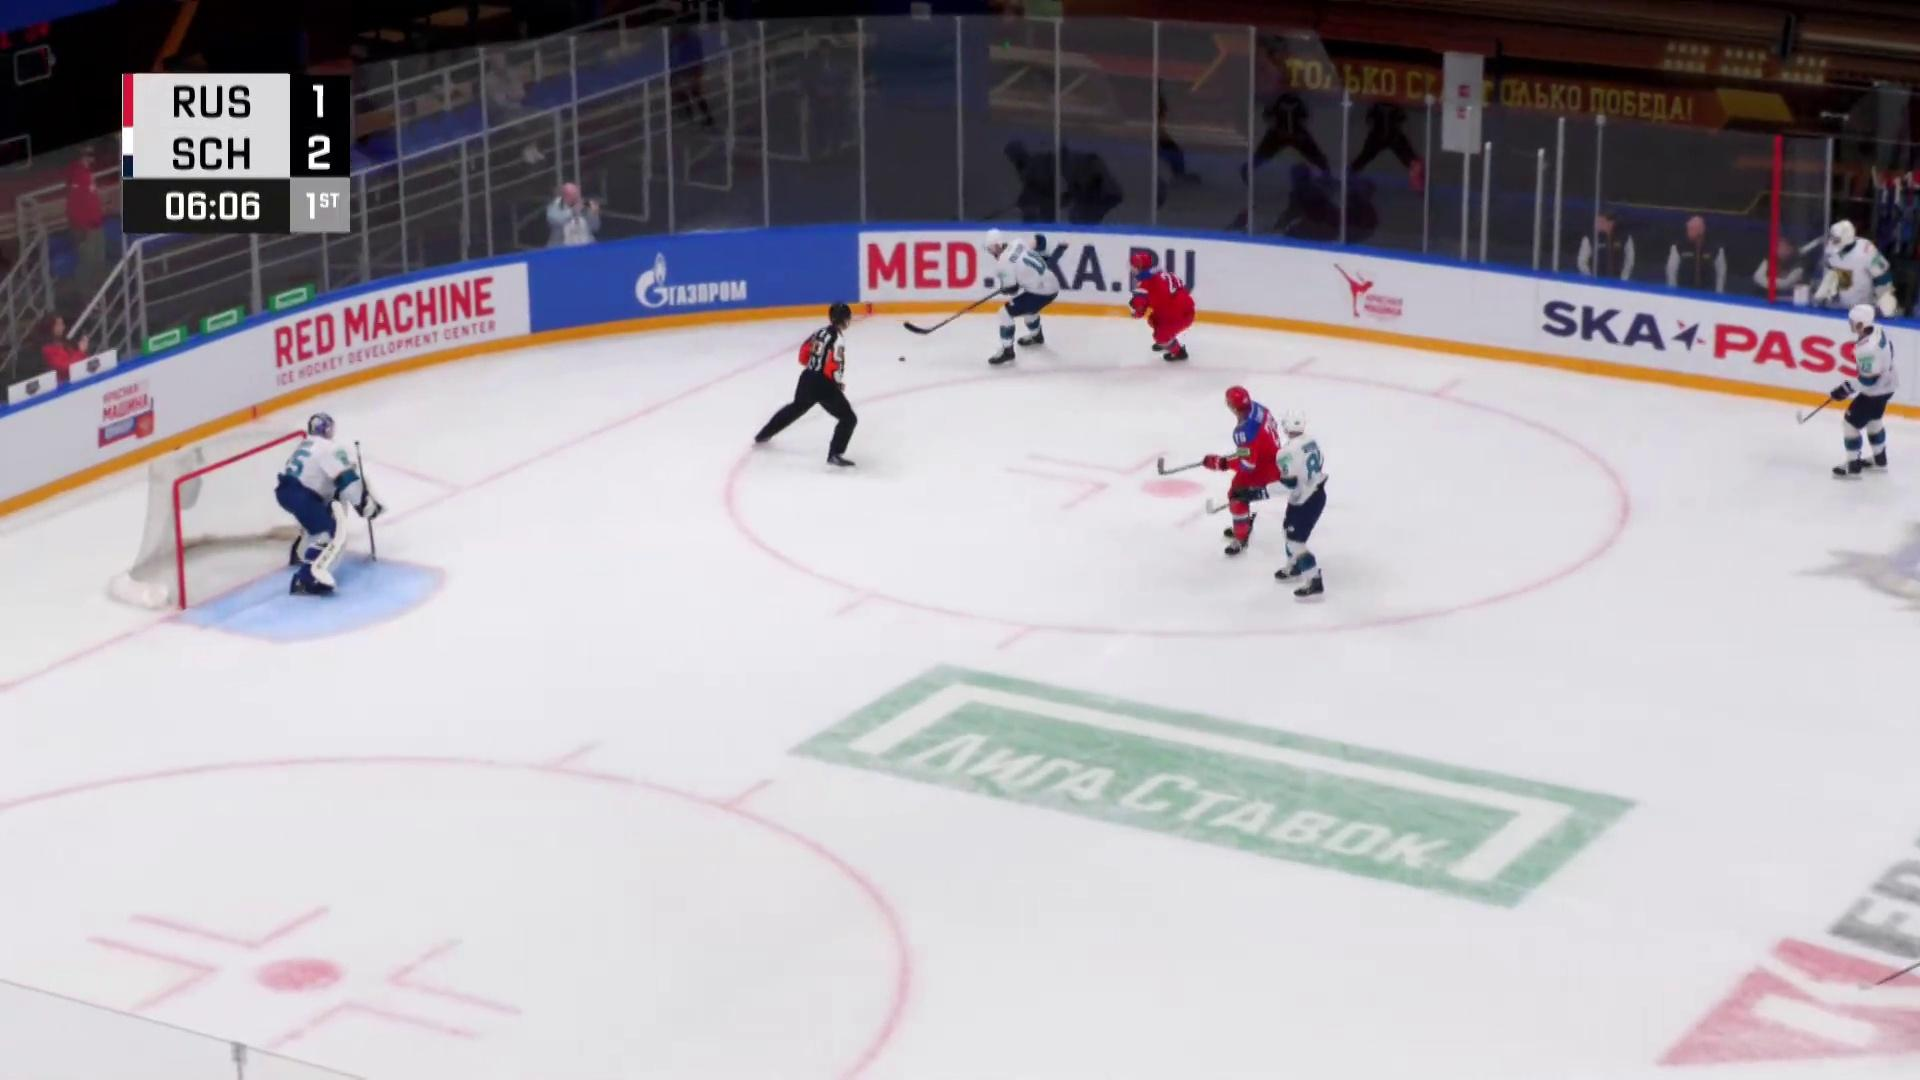ball: (898, 356, 906, 363)
